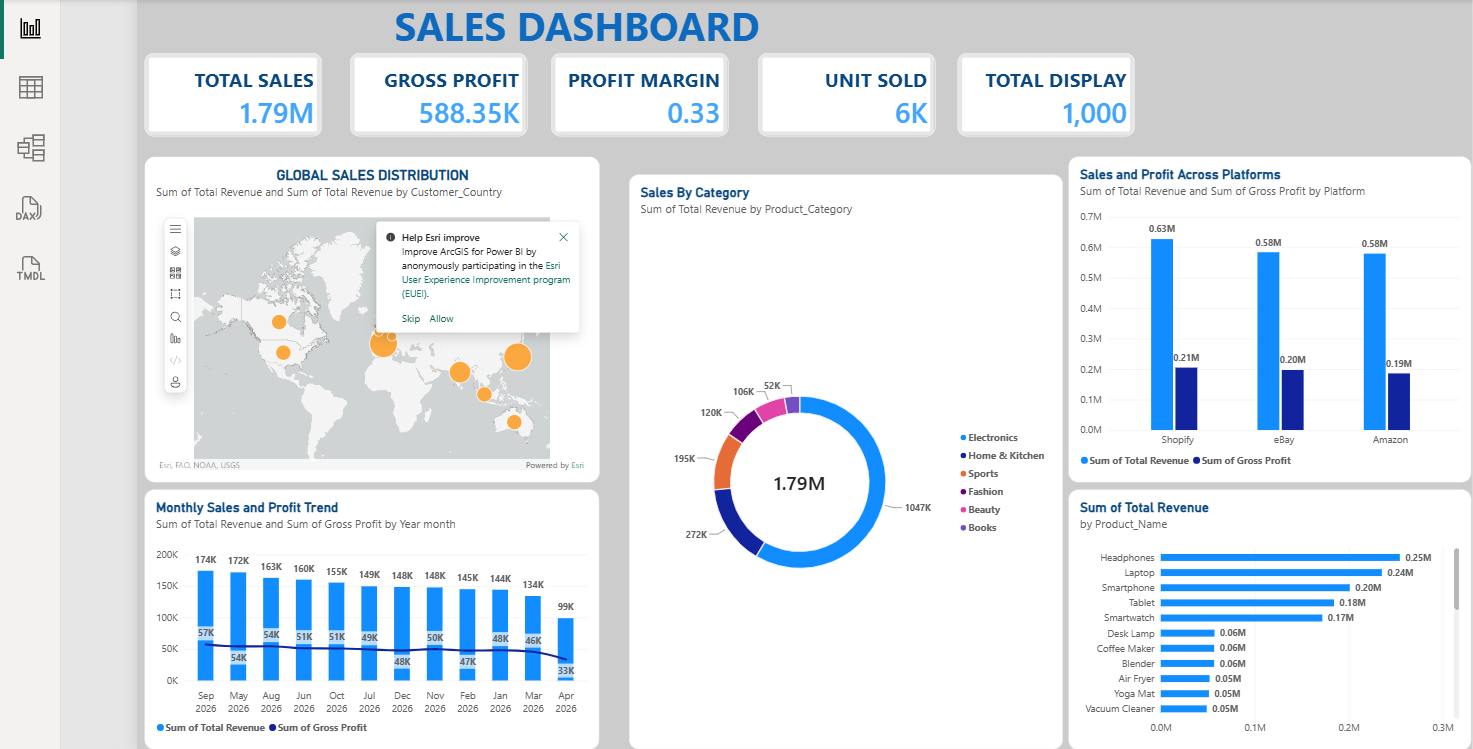

Layout of this report page (visuals, bound fields, positions):
{"tool":"powerbi","page":{"name":"Dashboard","canvas":[1920,1080],"ordinal":0},"visuals":[{"type":"textbox","box":[10,0,1269,79],"z":0},{"type":"cardVisual","fields":{"Data":["Ecom_Sales_Data.Total sales"]},"box":[11.1,78,255,120],"z":1000},{"type":"cardVisual","fields":{"Data":["Ecom_Sales_Data.Gross Profit KPI"]},"box":[306.4,78,255,120],"z":2000},{"type":"cardVisual","fields":{"Data":["Ecom_Sales_Data.Profit Margin %"]},"box":[596.1,78,255,120],"z":3000},{"type":"cardVisual","fields":{"Data":["Ecom_Sales_Data.Unit Sold"]},"box":[894.1,78,255,120],"z":4000},{"type":"cardVisual","fields":{"Data":["Calendar.Total order display"]},"box":[1181,78,255,120],"z":5000},{"type":"esriVisual","title":"GLOBAL SALES DISTRIBUTION","fields":{"Location":["Ecom_Sales_Data.Customer_Country"],"Size":["Sum(Ecom_Sales_Data.Total Revenue)"]},"box":[11.1,227.4,654.5,468.7],"z":6000},{"type":"donutChart","title":"Sales By Category","fields":{"Category":["Ecom_Sales_Data.Product_Category"],"Y":["Sum(Ecom_Sales_Data.Total Revenue)"]},"box":[707.2,252.4,624,826.4],"z":7000},{"type":"clusteredColumnChart","title":"Sales and Profit Across Platforms","fields":{"Category":["Ecom_Sales_Data.Platform"],"Y":["Sum(Ecom_Sales_Data.Total Revenue)","Sum(Ecom_Sales_Data.Gross Profit)"]},"box":[1339.5,227.4,579.6,468.7],"z":8000},{"type":"lineClusteredColumnComboChart","title":"Monthly Sales and Profit Trend","fields":{"Category":["Calendar.Year month"],"Y":["Sum(Ecom_Sales_Data.Total Revenue)"],"Y2":["Sum(Ecom_Sales_Data.Gross Profit)"]},"box":[11,706,654,374],"z":9000},{"type":"barChart","fields":{"Category":["Ecom_Sales_Data.Product_Name"],"Y":["Sum(Ecom_Sales_Data.Total Revenue)"]},"box":[1339.5,704.4,579.6,374.4],"z":10000}]}

Visuals, with their boxes on the page's 1920x1080 design canvas (x1, y1, x2, y2). These are canvas units, not pixel positions in the 1473x749 screenshot, which may show the page scaled, cropped or inside an application window:
textbox: {"x1": 10, "y1": 0, "x2": 1279, "y2": 79}
cardVisual - Ecom_Sales_Data.Total sales: {"x1": 11, "y1": 78, "x2": 266, "y2": 198}
cardVisual - Ecom_Sales_Data.Gross Profit KPI: {"x1": 306, "y1": 78, "x2": 561, "y2": 198}
cardVisual - Ecom_Sales_Data.Profit Margin %: {"x1": 596, "y1": 78, "x2": 851, "y2": 198}
cardVisual - Ecom_Sales_Data.Unit Sold: {"x1": 894, "y1": 78, "x2": 1149, "y2": 198}
cardVisual - Calendar.Total order display: {"x1": 1181, "y1": 78, "x2": 1436, "y2": 198}
"GLOBAL SALES DISTRIBUTION" esriVisual: {"x1": 11, "y1": 227, "x2": 666, "y2": 696}
"Sales By Category" donutChart: {"x1": 707, "y1": 252, "x2": 1331, "y2": 1079}
"Sales and Profit Across Platforms" clusteredColumnChart: {"x1": 1340, "y1": 227, "x2": 1919, "y2": 696}
"Monthly Sales and Profit Trend" lineClusteredColumnComboChart: {"x1": 11, "y1": 706, "x2": 665, "y2": 1080}
barChart - Ecom_Sales_Data.Product_Name x Sum(Ecom_Sales_Data.Total Revenue): {"x1": 1340, "y1": 704, "x2": 1919, "y2": 1079}
